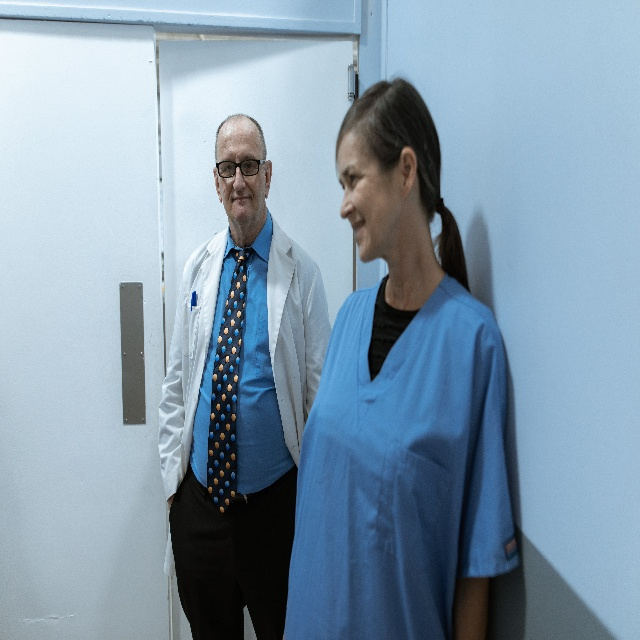Gafas: (215, 157, 266, 178)
